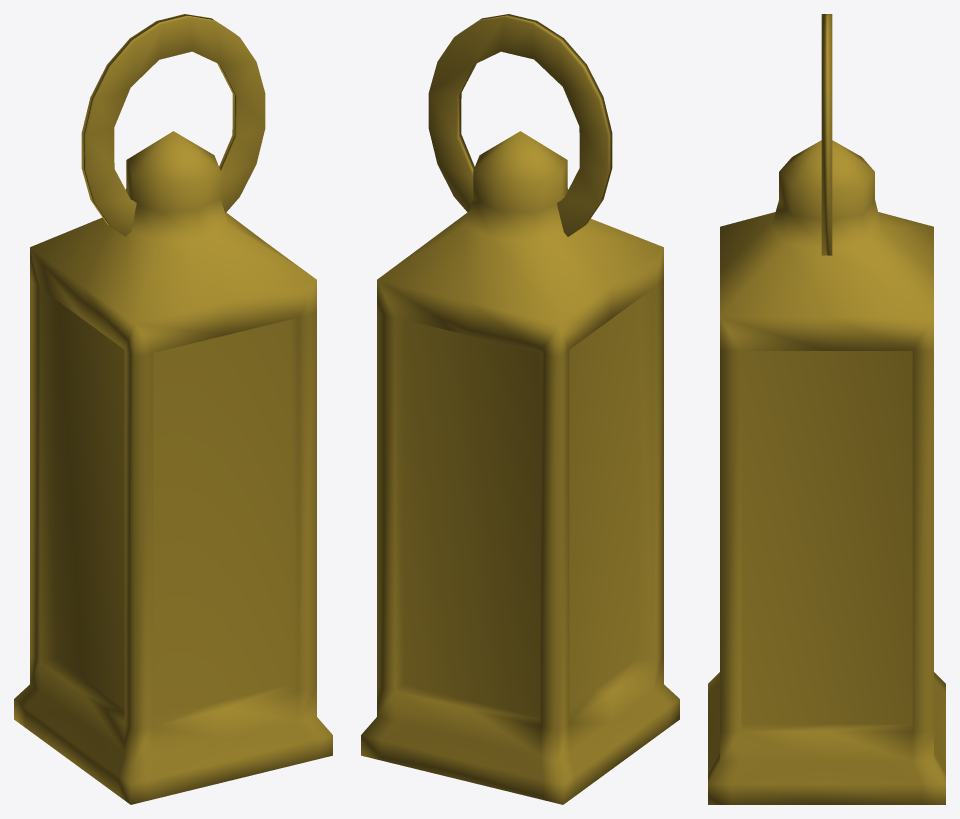
Rendered from Tools_Lantern.fbx.
3 renders of one model, left to right at view 1: azimuth 30°, elevation 25°; view 2: azimuth 150°, elevation 25°; view 3: azimuth 270°, elevation 25°, orthographic.
Visible parts, largest first — view 1: OilLantern; view 2: OilLantern; view 3: OilLantern.
Part boxes in pixels (x1,y1,x2,y2): OilLantern: (14, 14, 332, 804); OilLantern: (361, 14, 679, 804); OilLantern: (708, 14, 945, 804).
Bounding box in the file's own units: 0.1264 × 0.4293 × 0.1264.
